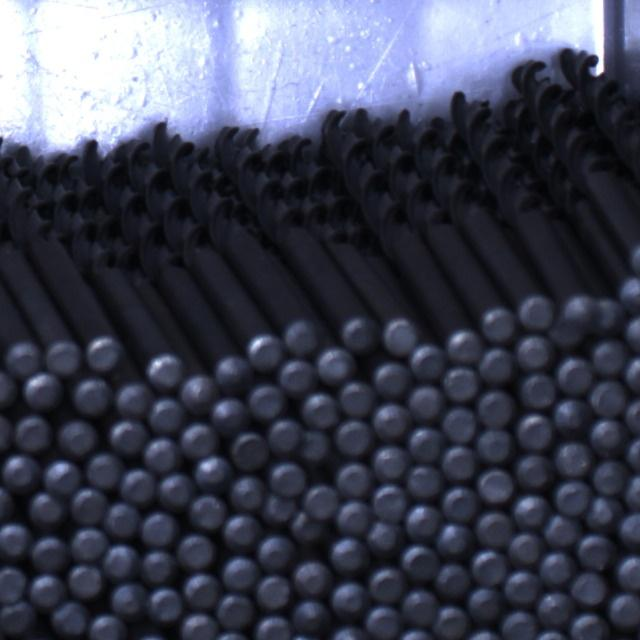tool: (72, 375, 114, 414), (3, 453, 42, 494), (58, 417, 98, 456), (51, 600, 90, 639), (21, 369, 61, 407), (178, 372, 216, 412), (14, 414, 52, 453), (107, 418, 146, 456), (86, 450, 124, 488), (316, 345, 354, 383), (342, 316, 380, 354), (43, 458, 83, 494), (230, 432, 268, 469), (382, 317, 419, 355), (0, 600, 37, 638), (277, 359, 315, 396), (476, 391, 514, 428), (86, 334, 124, 371), (27, 572, 66, 608), (179, 423, 218, 459), (143, 436, 180, 473), (245, 332, 282, 369), (516, 411, 553, 448), (4, 339, 41, 376), (176, 533, 214, 569), (300, 392, 338, 428), (70, 487, 108, 523), (27, 490, 65, 526), (556, 356, 592, 394), (249, 384, 287, 420), (588, 380, 626, 416), (45, 338, 83, 374), (160, 473, 198, 509), (147, 353, 185, 389), (331, 536, 369, 572), (293, 559, 331, 595), (331, 580, 367, 618), (372, 402, 410, 438), (32, 536, 71, 571), (402, 544, 439, 580), (215, 594, 252, 630), (224, 514, 261, 550), (102, 543, 138, 580), (555, 440, 592, 476), (210, 397, 246, 434), (470, 548, 507, 584), (372, 359, 409, 395), (403, 502, 440, 538), (188, 495, 226, 530), (590, 338, 628, 373), (146, 586, 182, 622), (479, 346, 515, 382), (142, 510, 178, 546), (576, 535, 612, 571), (110, 582, 146, 618), (402, 587, 438, 623), (480, 304, 516, 340), (365, 605, 402, 640), (184, 571, 221, 606), (270, 461, 307, 496), (476, 511, 513, 546), (518, 294, 555, 329), (518, 335, 555, 370), (215, 358, 258, 388), (121, 467, 157, 502), (223, 555, 259, 590), (336, 419, 372, 454), (504, 568, 540, 603), (369, 567, 405, 602), (410, 342, 445, 378), (259, 533, 295, 568), (372, 484, 407, 520), (296, 597, 331, 633), (477, 467, 514, 501), (70, 526, 107, 560), (519, 456, 556, 490), (433, 605, 468, 640), (520, 373, 555, 408), (68, 562, 102, 598), (339, 380, 373, 416), (443, 484, 477, 520), (336, 461, 372, 495), (586, 494, 620, 530), (476, 429, 513, 462), (544, 514, 582, 546), (407, 426, 442, 460), (106, 503, 141, 537), (408, 384, 442, 419), (149, 396, 184, 430), (371, 519, 405, 554), (443, 365, 479, 398), (592, 460, 628, 493), (0, 520, 31, 558), (304, 484, 338, 518), (555, 480, 589, 514), (140, 548, 174, 582), (230, 476, 264, 510), (554, 398, 588, 432), (436, 562, 470, 596), (468, 586, 502, 620), (336, 498, 370, 532), (256, 575, 291, 608), (572, 571, 608, 603), (516, 494, 552, 526), (551, 316, 587, 348), (442, 446, 476, 479), (268, 418, 302, 451), (438, 523, 472, 556), (541, 552, 576, 584), (609, 593, 640, 629), (502, 610, 539, 640), (442, 408, 475, 441), (506, 534, 540, 566), (373, 446, 407, 478), (292, 511, 326, 542), (89, 613, 128, 640), (570, 613, 609, 640), (406, 468, 442, 497), (181, 612, 218, 640), (0, 566, 27, 604), (195, 457, 230, 486), (286, 323, 318, 354), (118, 384, 149, 416), (298, 426, 329, 458), (595, 296, 622, 332), (448, 334, 482, 362), (543, 593, 572, 624), (255, 616, 292, 640), (617, 552, 640, 589), (619, 274, 640, 312), (266, 491, 293, 520), (620, 512, 640, 549), (0, 369, 18, 407), (567, 298, 594, 323), (625, 313, 640, 353), (0, 483, 15, 522), (625, 355, 640, 393), (392, 628, 438, 640), (626, 434, 640, 472), (626, 475, 640, 512), (626, 398, 640, 434), (0, 412, 12, 454), (461, 629, 503, 640), (533, 629, 569, 640), (212, 631, 251, 640)
